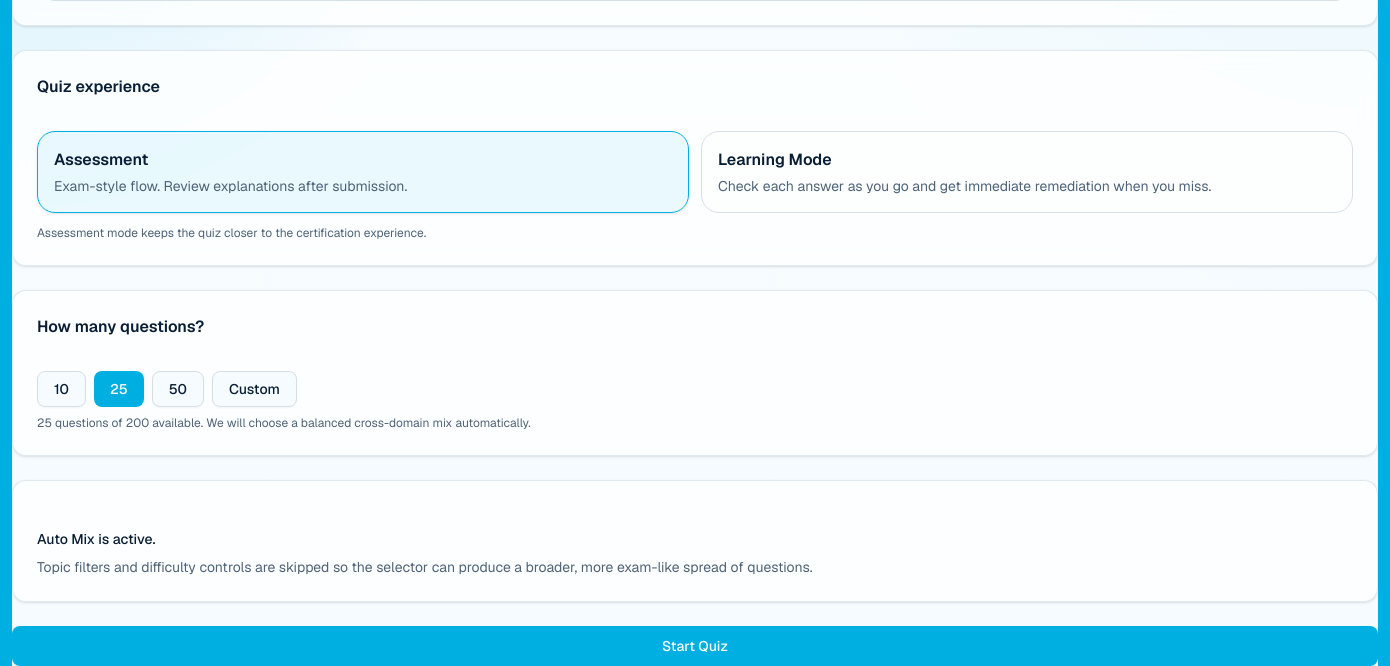
Test: QuizConfigForm › shows an error message when the generate API fails
(page scrolled)
Step 1. Click the button "Start Quiz" → (695, 646), box [12,626,1378,665]
(page scrolled)
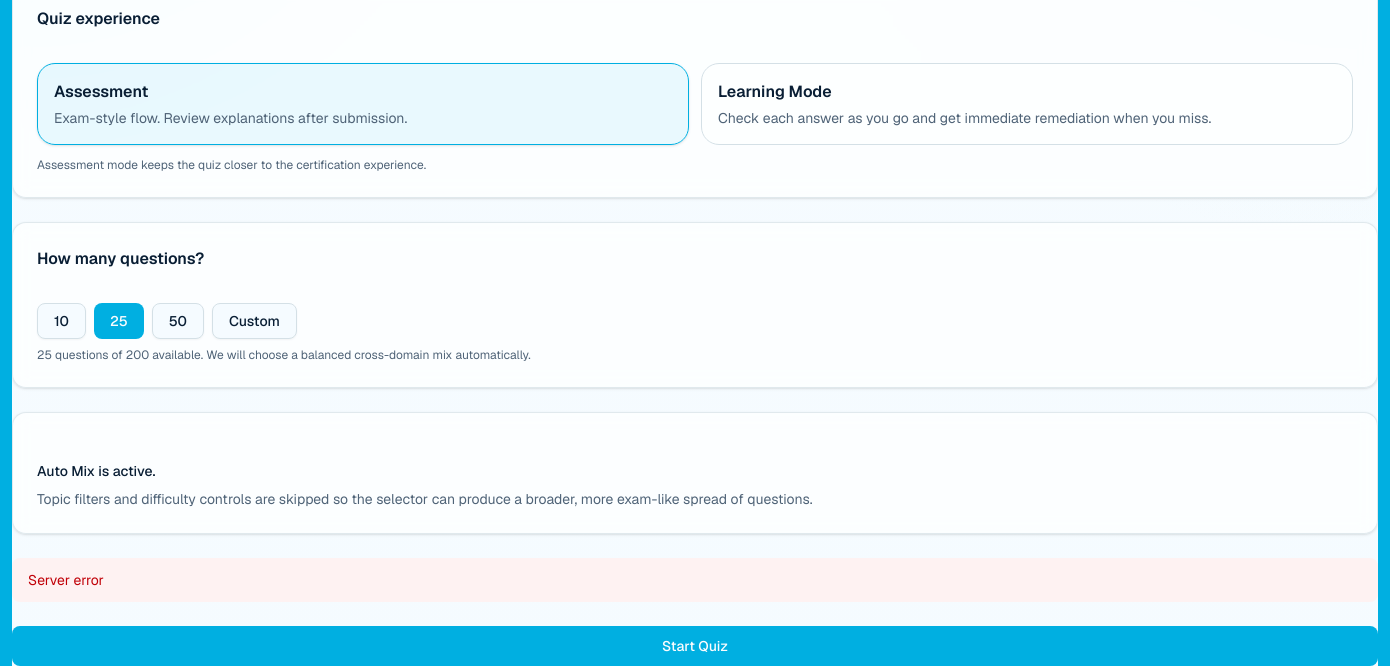
Now the text "Server error" is shown, box [12,558,1378,602]
